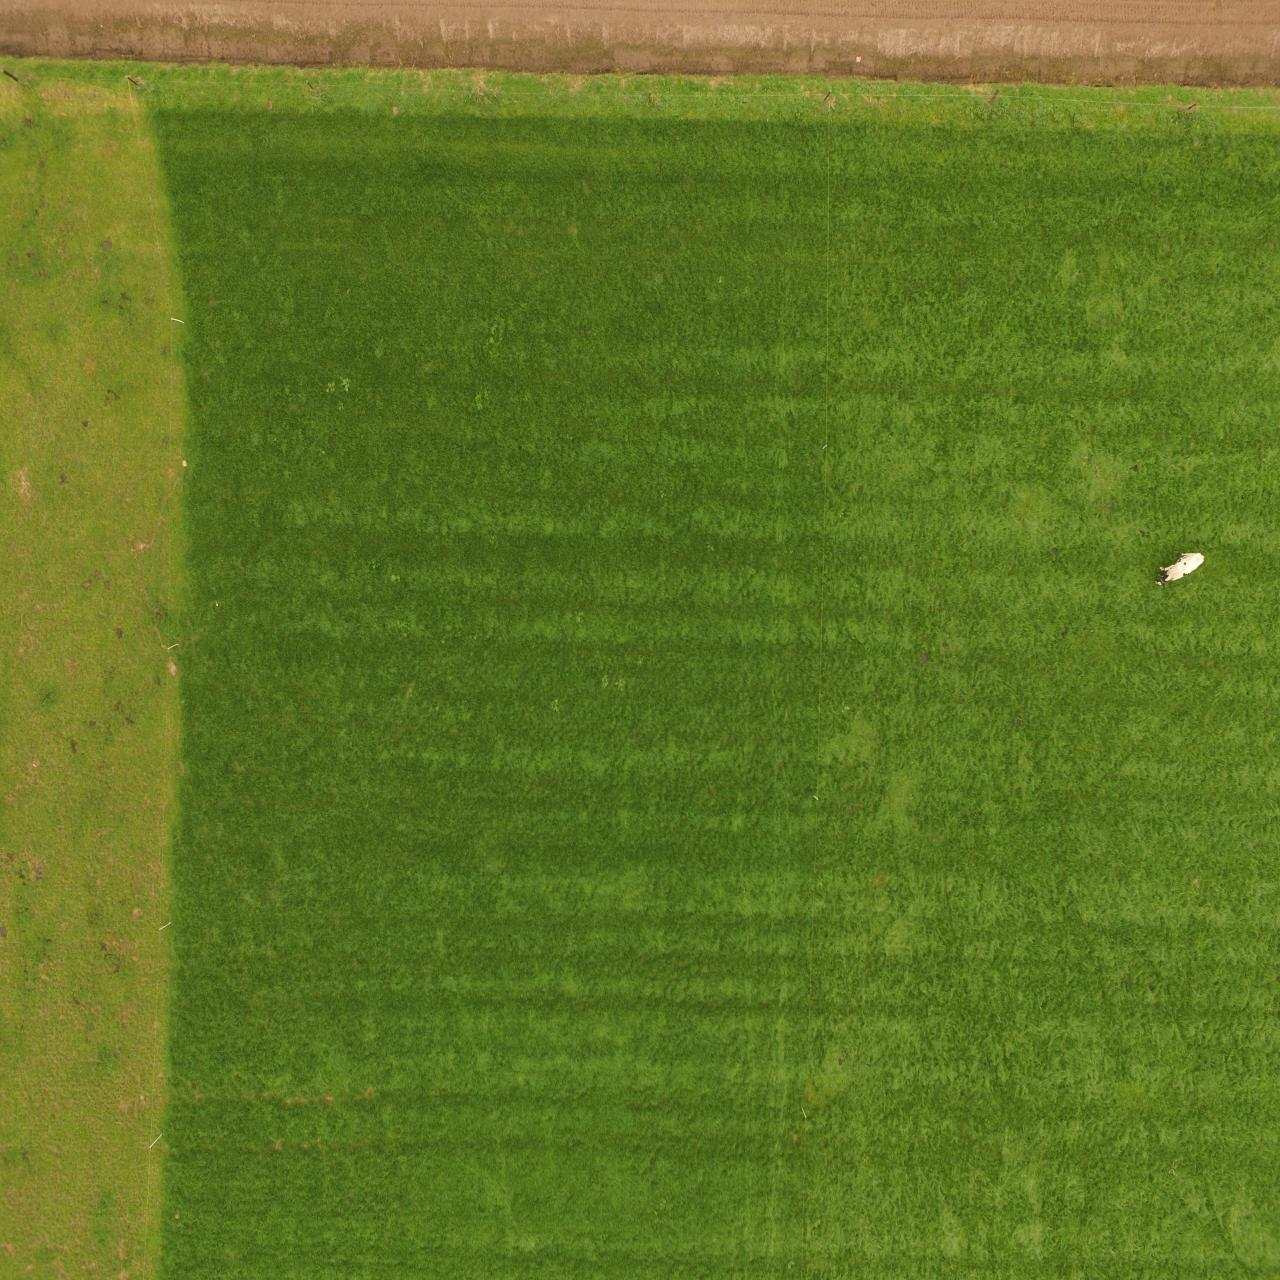cow: (1149, 549, 1206, 586)
